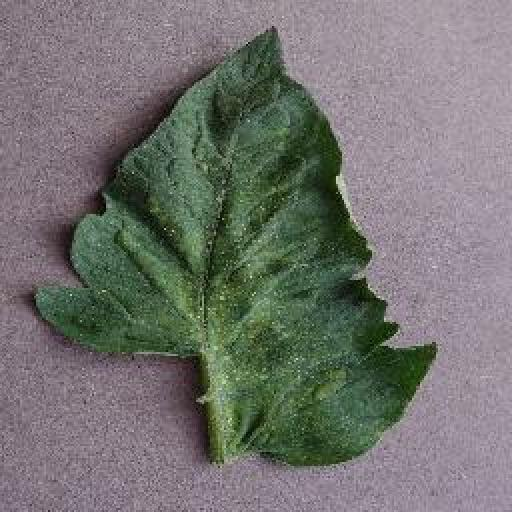disease_tomato: (31, 23, 440, 469)
